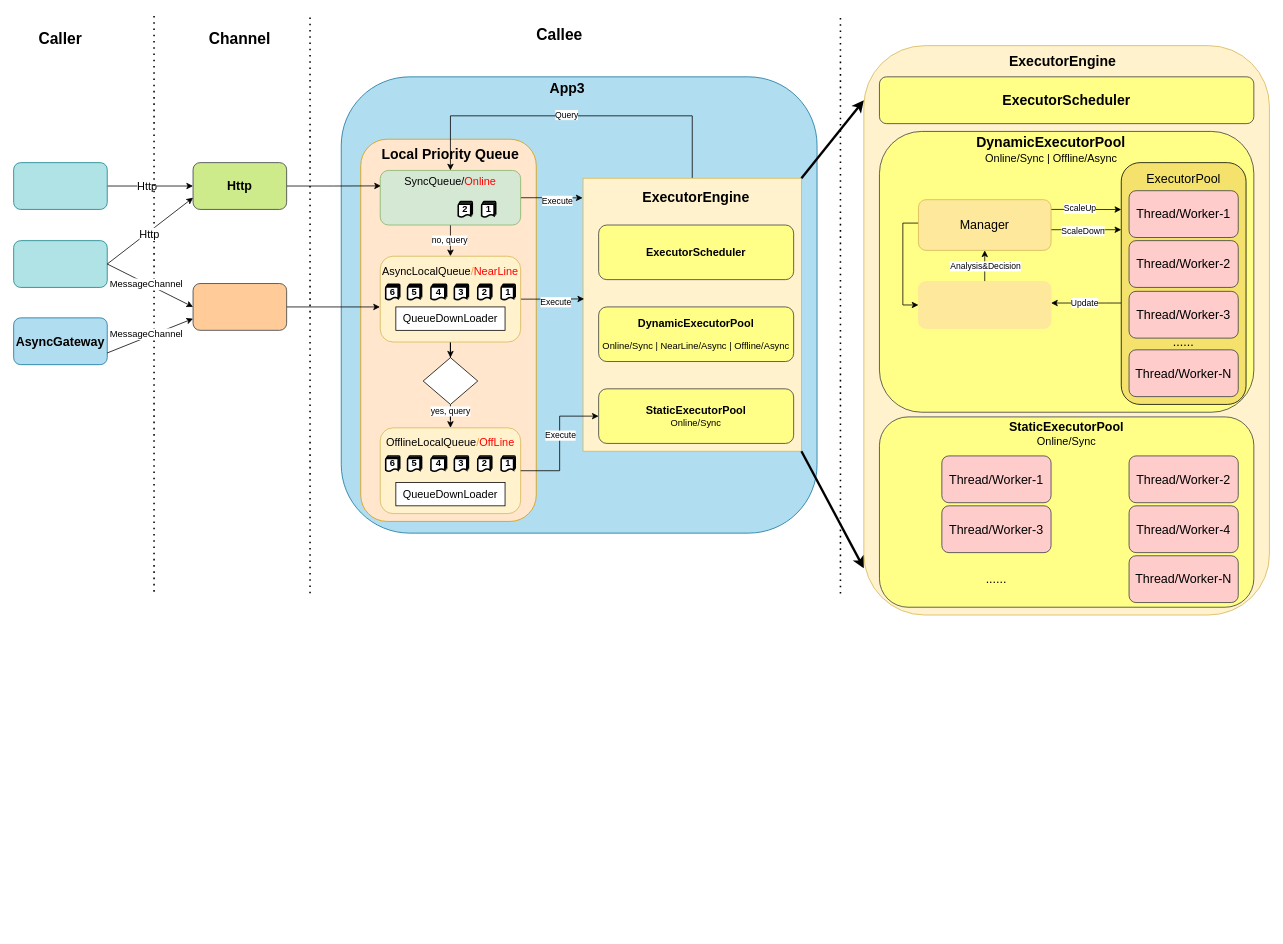
The diagram is 1283 pixels wide and 944 high, and some of its shapes have lost their labels. The centre of each missing label's shape, as x and y in pixels:
App-1: the point at 60,185
App-2: the point at 60,263
LocalDB ThreadNum | QPS | RT | Load: the point at 984,304
Low Load: the point at 450,380
RemoteQueue: the point at 239,306
